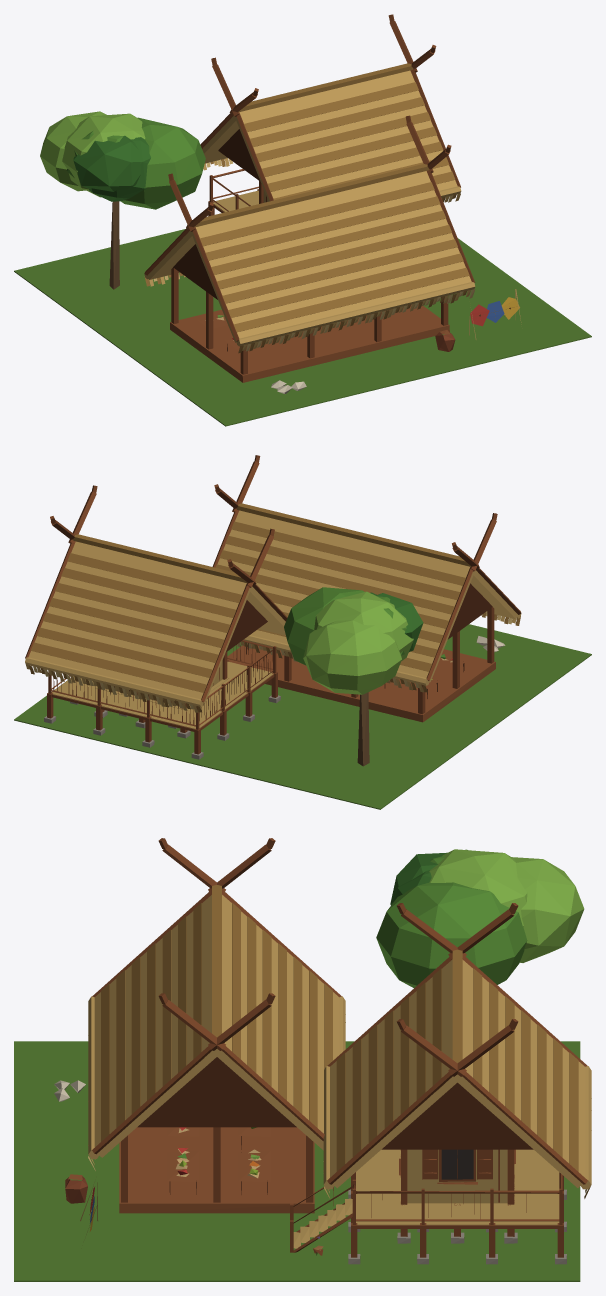
File: shop_3.glb
The picture shows the model from 3 angles, top to bottom: view 1: azimuth 30°, elevation 25°; view 2: azimuth 150°, elevation 25°; view 3: azimuth 270°, elevation 25°; orthographic projection. The views are drawn at different scales.
Visible parts, largest first — view 1: body; view 2: body; view 3: body, windows.
Part boxes in pixels (x1=…): body: x1=14, y1=14, x2=591, y2=426; body: x1=14, y1=455, x2=591, y2=809; body: x1=14, y1=838, x2=591, y2=1281; windows: x1=441, y1=1149, x2=473, y2=1179.
Bounding box in the file's own units: 15.9 × 8.04 × 16.22.
